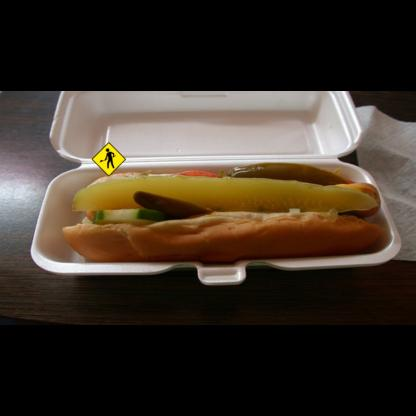A-24: (92, 142, 126, 177)
